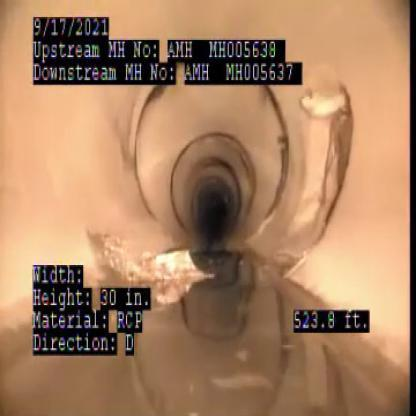Debris: (83, 213, 206, 287)
